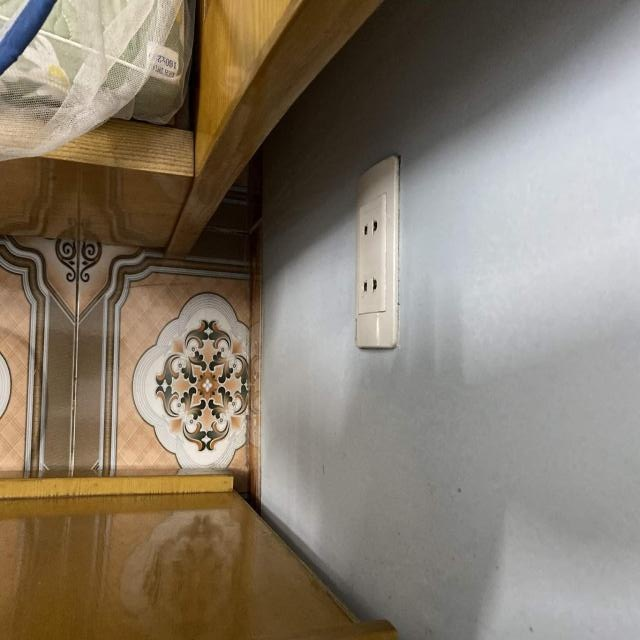outlet: (355, 154, 400, 349)
